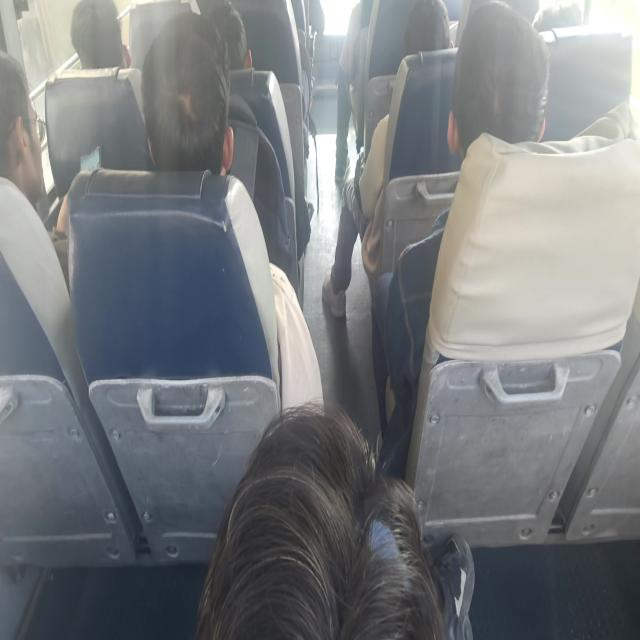person: (238, 347, 454, 640), (138, 15, 242, 188), (446, 34, 536, 165), (0, 110, 62, 203), (80, 5, 132, 89), (539, 0, 602, 41), (414, 3, 449, 56)
